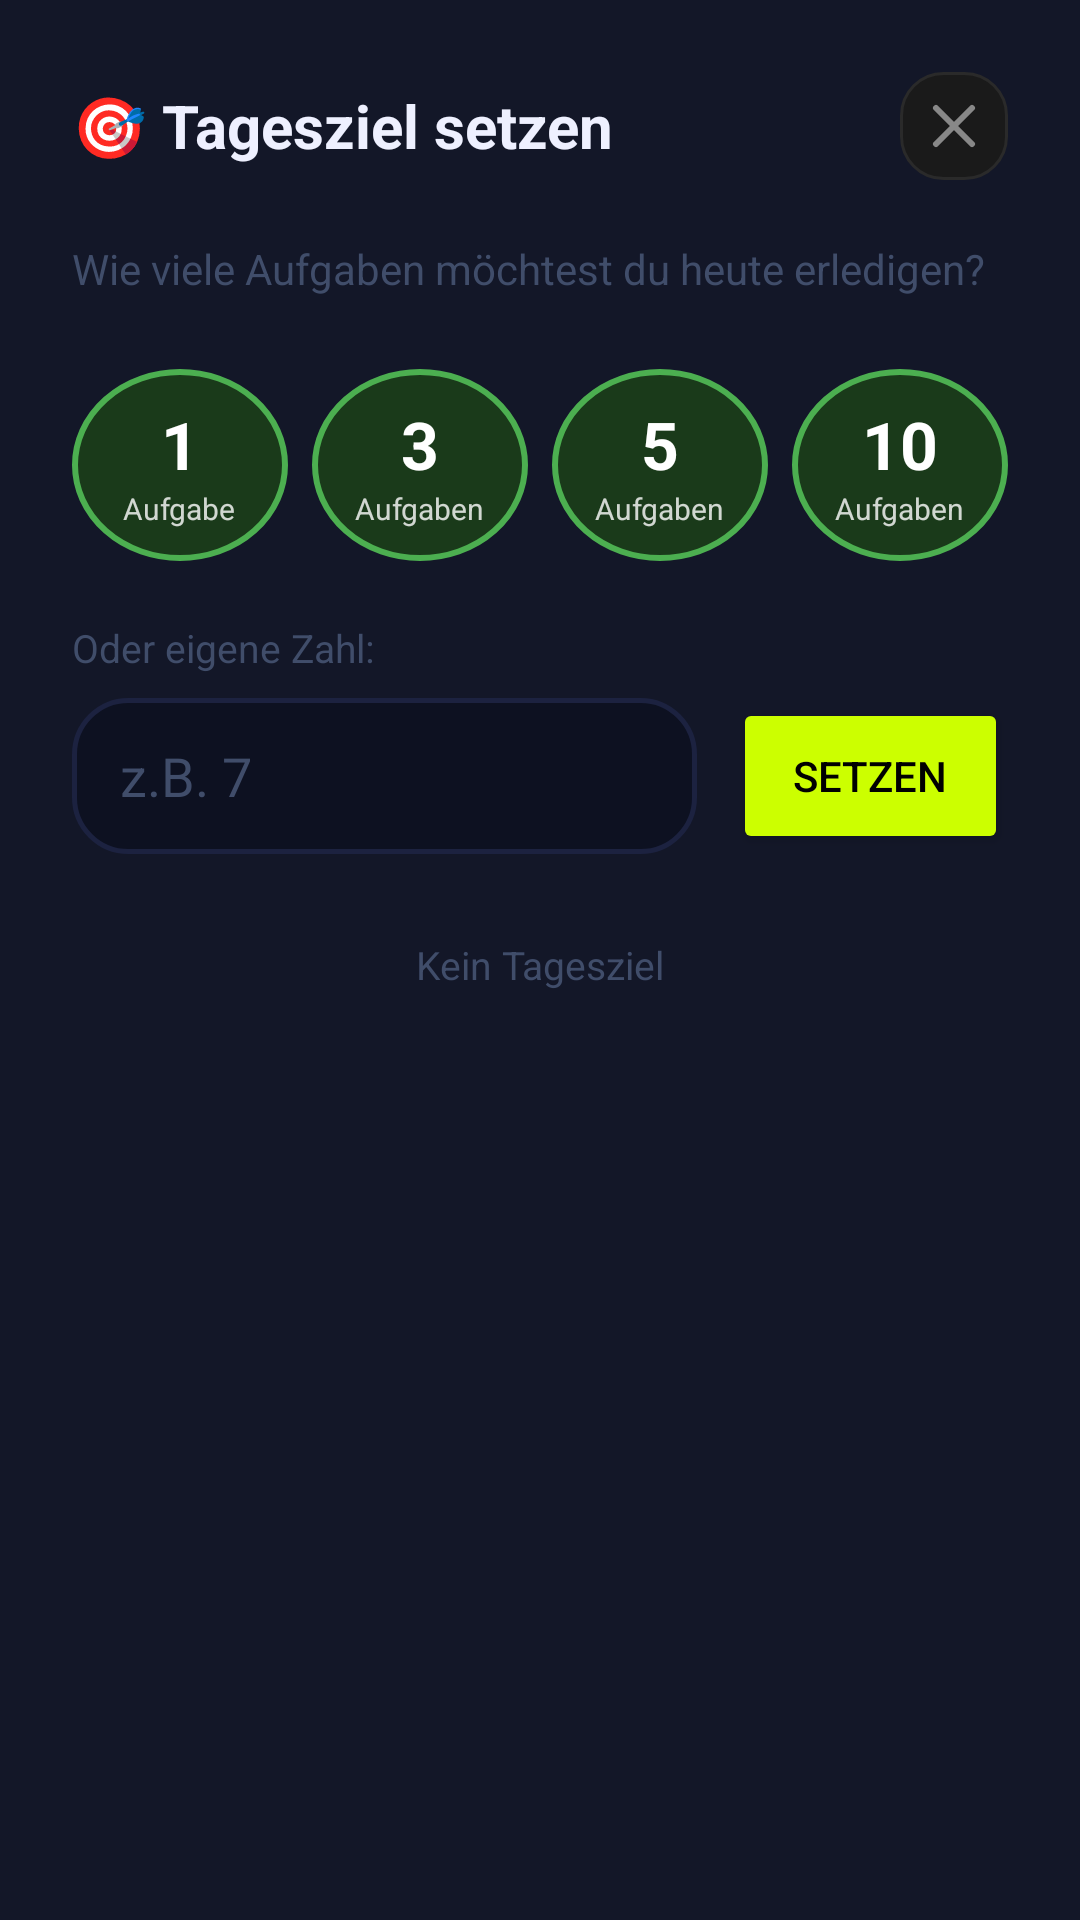

Where icons sit on this 1080*1920 app screen, as (left=x1, top=y1, right=x2, bottom=y2):
Schließen: (left=900, top=72, right=1008, bottom=180)
